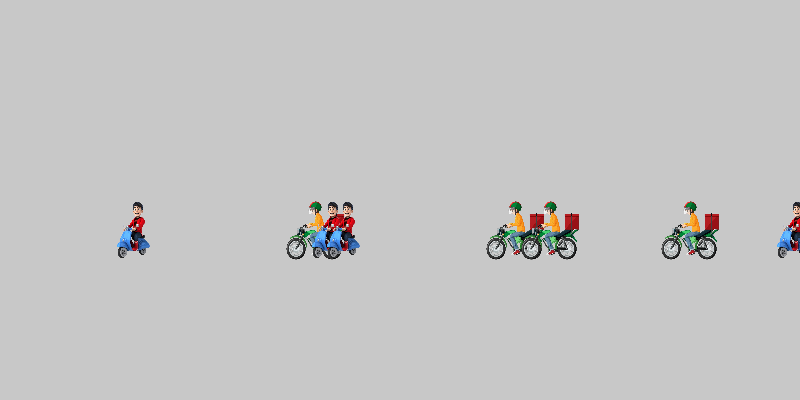helmet: (285, 200, 345, 260), (485, 200, 545, 260), (520, 200, 580, 260), (660, 200, 720, 260)
no_helmet: (105, 200, 165, 260), (300, 200, 360, 260), (315, 200, 375, 260), (765, 200, 800, 260)
